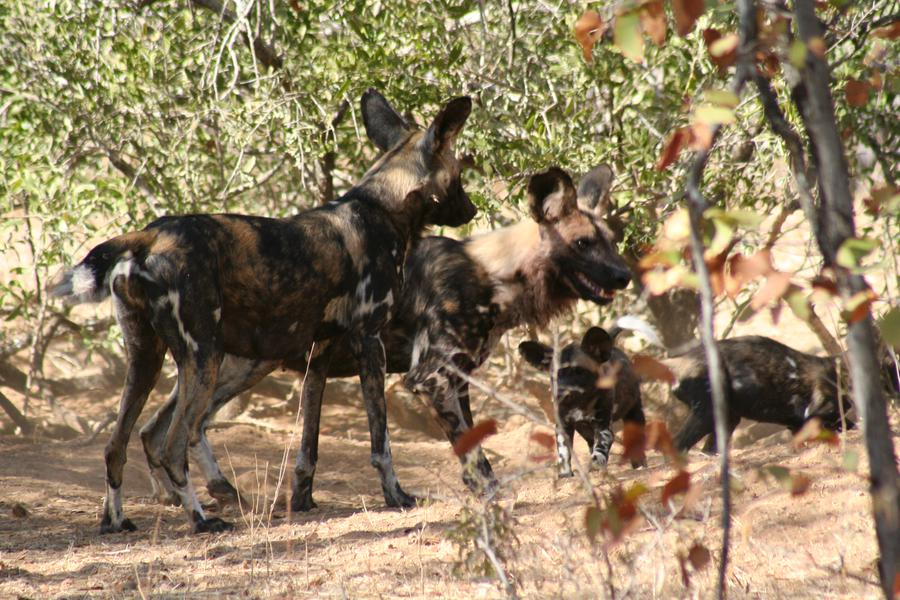wilddog: (128, 141, 427, 362), (441, 173, 626, 377), (668, 352, 842, 439), (554, 385, 614, 465)
